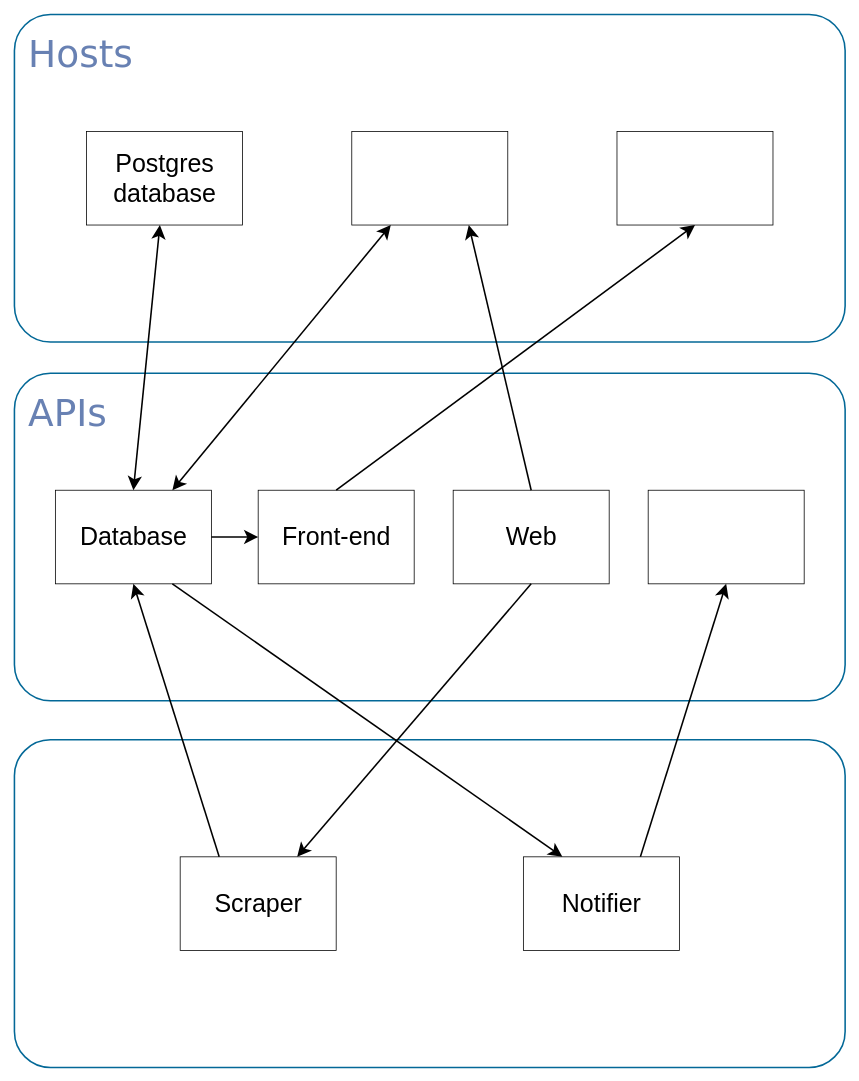
The diagram is 859 pixels wide and 1081 high, and some of its shapes have lost their labels. Here are the shapes that lost their labels. From the top down, the box of each, then its label:
(351, 131, 508, 225): Telegram bot
(616, 131, 773, 225): Web dashboard
(647, 489, 804, 584): Telegram
(13, 739, 846, 1068): Services
